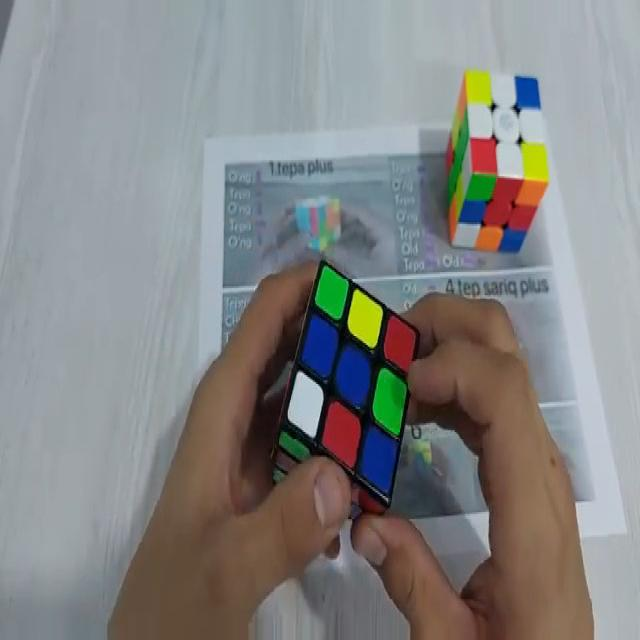Rub: (271, 257, 421, 519), (445, 70, 550, 252)
